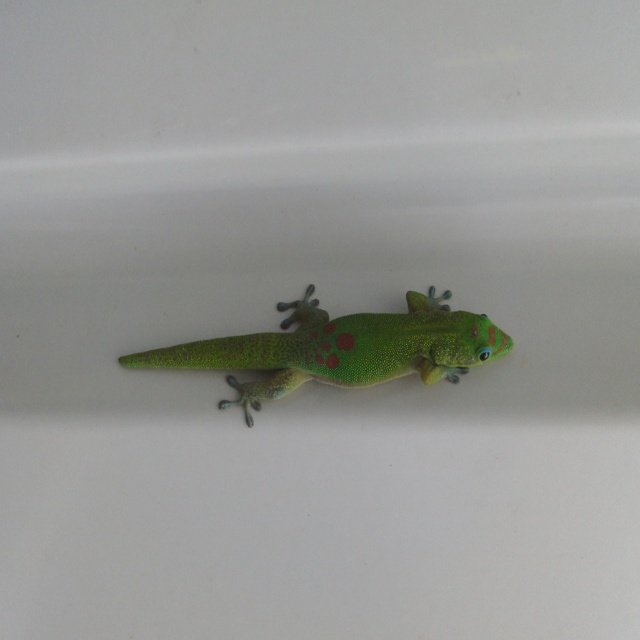Lizard: (118, 285, 532, 441)
